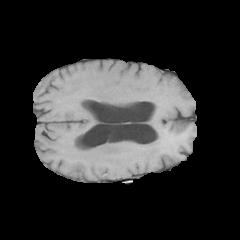glioma: (65, 136, 165, 169)
